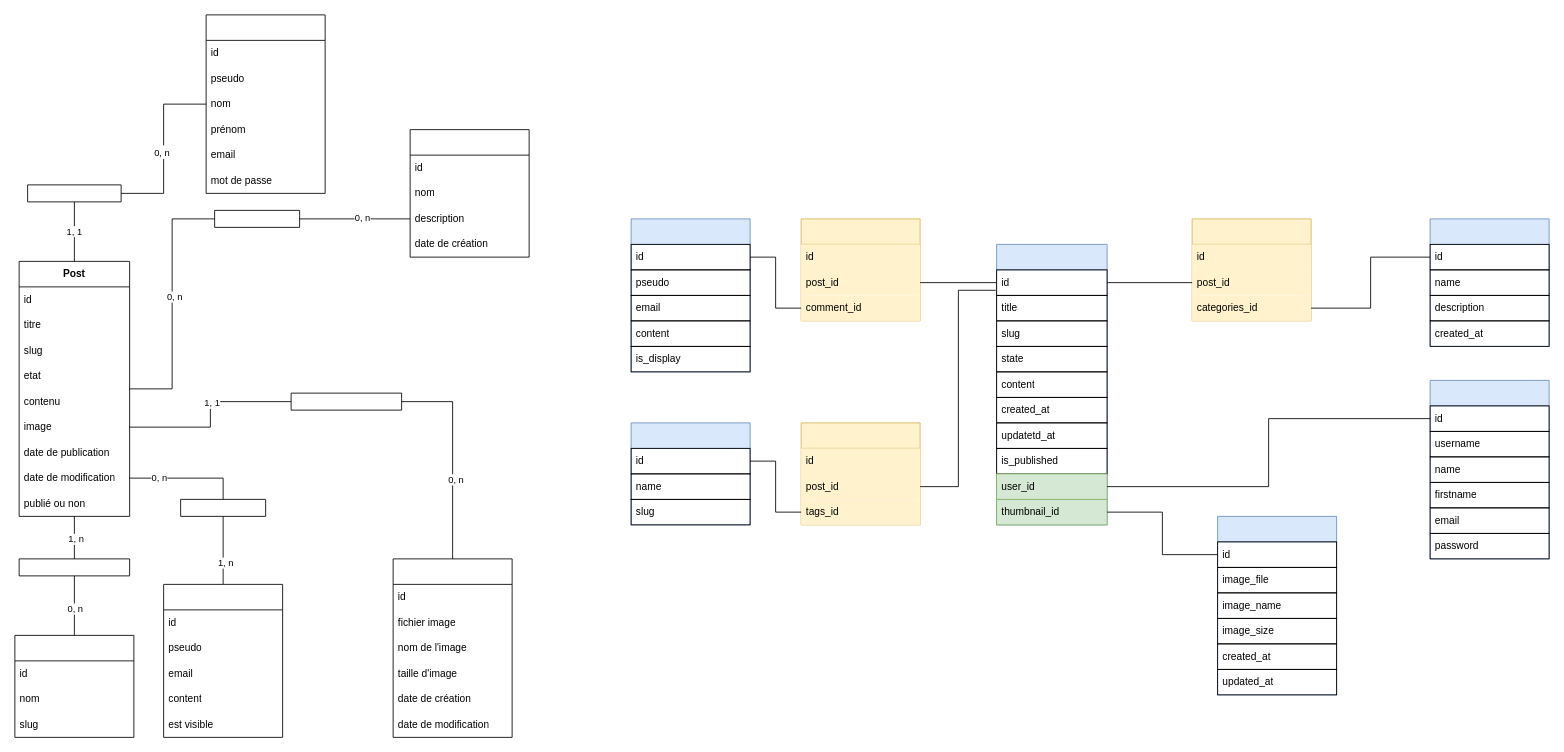
Some shapes in this 1564 by 752 pixel diagram are drawn without their labels. The box of each missing label's shape, as (x1, y1, x2, y2) in pixels:
Appartient: (214, 210, 300, 227)
Categories: (1429, 218, 1549, 346)
categories_posts: (1191, 218, 1311, 321)
Category: (409, 129, 529, 257)
Comment: (163, 584, 283, 737)
Comments: (630, 218, 750, 372)
comments_posts: (800, 218, 920, 321)
Contient: (18, 558, 130, 576)
Est composé de: (290, 392, 402, 410)
Possède: (180, 499, 266, 516)
Posts: (996, 244, 1107, 525)
posts_tags: (800, 422, 920, 525)
Rédige: (27, 184, 121, 202)
Tag: (14, 635, 134, 737)
Tags: (630, 422, 750, 525)
Thumbnail: (392, 558, 512, 737)
Thumbnails: (1217, 516, 1337, 695)
User: (205, 14, 325, 193)
Users: (1429, 380, 1549, 559)
